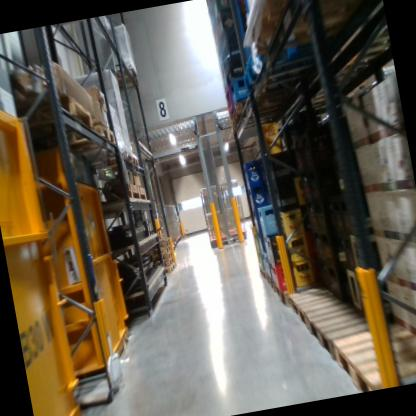pallet: (240, 0, 386, 62), (0, 58, 89, 148), (327, 317, 416, 393), (305, 298, 400, 367), (282, 266, 365, 339), (36, 114, 121, 158), (70, 141, 146, 181), (88, 181, 152, 211), (272, 277, 296, 310), (140, 240, 173, 261), (138, 232, 170, 250), (141, 254, 177, 270), (140, 249, 174, 265), (264, 267, 280, 296), (257, 260, 270, 284), (160, 262, 179, 276)
